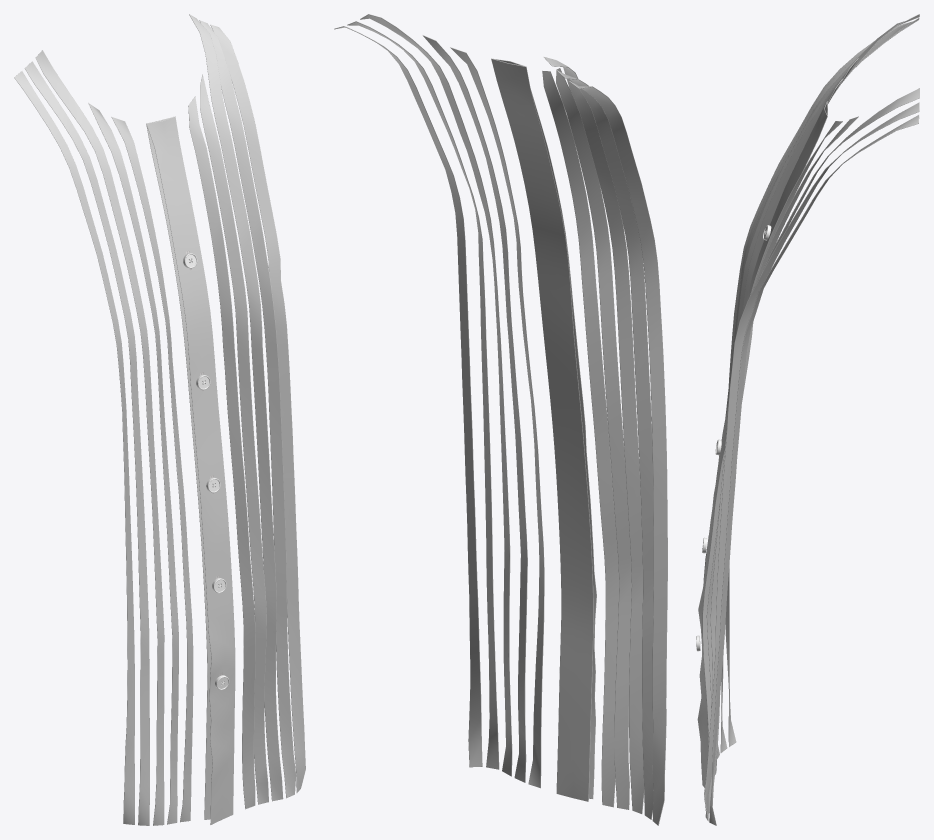
File: Tuxedo_Front_Pleated.glb
The picture shows the model from 3 angles, left to right: view 1: azimuth 30°, elevation 25°; view 2: azimuth 150°, elevation 25°; view 3: azimuth 270°, elevation 25°; orthographic projection. The views are drawn at different scales.
Visible parts, largest first — view 1: in shirt_Node (×2), Pattern_43403_Node, Pattern_43402_Node, Pattern_43401_Node, Pattern_43404_Node, Pattern_43405_Node, Pattern_43397_Node, Pattern_43398_Node, Pattern_43396_Node, Pattern_43399_Node, Pattern_43400_Node; view 2: in shirt_Node (×2), Pattern_43396_Node, Pattern_43399_Node, Pattern_43400_Node, Pattern_43398_Node, Pattern_43397_Node, Pattern_43401_Node, Pattern_43404_Node, Pattern_43403_Node, Pattern_43402_Node, Pattern_43405_Node; view 3: Pattern_43402_Node, Pattern_43401_Node, in shirt_Node, Pattern_43405_Node, Pattern_43403_Node, Pattern_43400_Node, Pattern_43396_Node, Pattern_43404_Node, Pattern_43397_Node, Pattern_43399_Node, Pattern_43398_Node.
Boxes of the visible parts, <box> form: in shirt_Node (×2): <box>146,116,235,824</box>; Pattern_43403_Node: <box>189,14,283,801</box>; Pattern_43402_Node: <box>199,20,296,798</box>; Pattern_43401_Node: <box>210,24,305,792</box>; Pattern_43404_Node: <box>200,74,268,804</box>; Pattern_43405_Node: <box>188,96,255,809</box>; Pattern_43397_Node: <box>24,61,149,825</box>; Pattern_43398_Node: <box>35,50,164,825</box>; Pattern_43396_Node: <box>14,71,134,824</box>; Pattern_43399_Node: <box>88,103,178,824</box>; Pattern_43400_Node: <box>111,117,193,822</box>; in shirt_Node (×2): <box>491,58,596,801</box>; Pattern_43396_Node: <box>569,81,667,825</box>; Pattern_43399_Node: <box>556,68,631,809</box>; Pattern_43400_Node: <box>542,70,619,807</box>; Pattern_43398_Node: <box>544,57,644,813</box>; Pattern_43397_Node: <box>556,70,653,819</box>; Pattern_43401_Node: <box>334,26,482,767</box>; Pattern_43404_Node: <box>422,35,527,782</box>; Pattern_43403_Node: <box>360,14,512,776</box>; Pattern_43402_Node: <box>347,21,499,769</box>; Pattern_43405_Node: <box>450,47,544,788</box>; Pattern_43402_Node: <box>704,102,919,821</box>; Pattern_43401_Node: <box>709,115,919,825</box>; in shirt_Node: <box>697,101,827,787</box>; Pattern_43405_Node: <box>702,121,842,805</box>; Pattern_43403_Node: <box>704,88,919,813</box>; Pattern_43400_Node: <box>703,79,842,774</box>; Pattern_43396_Node: <box>725,20,918,746</box>; Pattern_43404_Node: <box>706,116,858,803</box>; Pattern_43397_Node: <box>720,18,919,752</box>; Pattern_43399_Node: <box>716,58,858,766</box>; Pattern_43398_Node: <box>717,14,919,758</box>.
Bounding box in the file's own units: 20.22 × 66.88 × 18.35.
7 materials, 5 textured.
